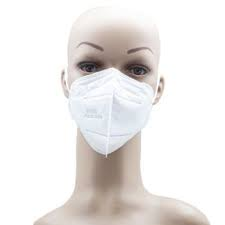FaceMask: (69, 67, 154, 155)
